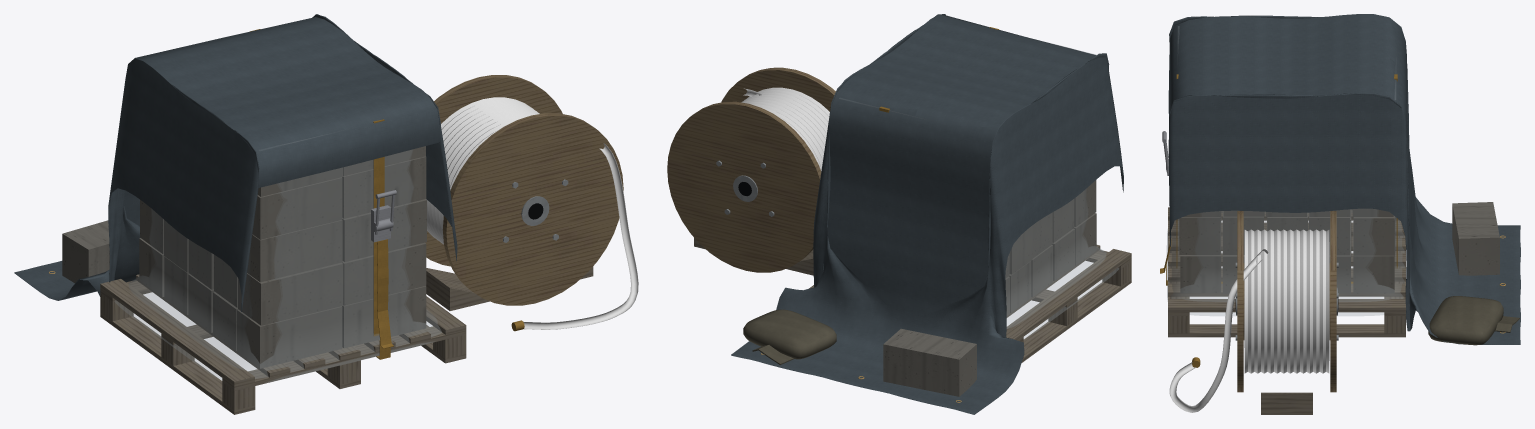
The model's file is pallet_stack.glb.
3 views of the same model, side by side, from view 1: azimuth 30°, elevation 25°; view 2: azimuth 150°, elevation 25°; view 3: azimuth 270°, elevation 25° (orthographic). The views are drawn at different scales.
Visible parts, largest first — view 1: tarp_fabric_tarp_faded_0, wrap_plastic_shrinkwrap_0, drum_wood_plywood_4, load_concrete_weathered_4, load_concrete_weathered_14, cable_rubber_0, load_concrete_weathered_24, load_concrete_weathered_34, pallet_wood_pallet_15, drum_wood_plywood_0, load_concrete_weathered_39, load_concrete_weathered_19 (+25 smaller); view 2: tarp_fabric_tarp_faded_0, drum_wood_plywood_0, wrap_plastic_shrinkwrap_0, weight_concrete_weathered_0, sandbag_fabric_canvas_0, cable_rubber_0, pallet_wood_pallet_15, drum_wood_plywood_4, pallet_wood_pallet_0, load_concrete_weathered_3, load_concrete_weathered_4, load_concrete_weathered_2 (+7 smaller); view 3: tarp_fabric_tarp_faded_0, cable_rubber_0, wrap_plastic_shrinkwrap_0, weight_concrete_weathered_0, sandbag_fabric_canvas_0, pallet_wood_pallet_21, load_concrete_weathered_9, cable_rubber_1, load_concrete_weathered_5, load_concrete_weathered_15, load_concrete_weathered_19, pallet_wood_pallet_2 (+15 smaller).
Part boxes in pixels (<box>): tarp_fabric_tarp_faded_0: <box>14,14,457,311</box>; wrap_plastic_shrinkwrap_0: <box>115,133,441,382</box>; drum_wood_plywood_4: <box>442,113,623,305</box>; load_concrete_weathered_4: <box>237,306,342,368</box>; load_concrete_weathered_14: <box>238,262,343,325</box>; cable_rubber_0: <box>425,97,539,244</box>; load_concrete_weathered_24: <box>247,220,342,282</box>; load_concrete_weathered_34: <box>252,177,342,239</box>; pallet_wood_pallet_15: <box>100,279,254,386</box>; drum_wood_plywood_0: <box>425,75,562,266</box>; load_concrete_weathered_39: <box>342,156,426,218</box>; load_concrete_weathered_19: <box>342,242,426,305</box>; tarp_fabric_tarp_faded_0: <box>731,14,1123,414</box>; drum_wood_plywood_0: <box>667,101,821,272</box>; wrap_plastic_shrinkwrap_0: <box>861,42,1118,338</box>; weight_concrete_weathered_0: <box>883,328,976,396</box>; sandbag_fabric_canvas_0: <box>743,309,836,359</box>; cable_rubber_0: <box>741,87,829,170</box>; pallet_wood_pallet_15: <box>1006,249,1131,340</box>; drum_wood_plywood_4: <box>721,67,835,111</box>; pallet_wood_pallet_0: <box>1021,279,1131,362</box>; load_concrete_weathered_3: <box>1052,228,1075,280</box>; load_concrete_weathered_4: <box>1074,213,1096,265</box>; load_concrete_weathered_2: <box>1031,245,1052,297</box>; tarp_fabric_tarp_faded_0: <box>1168,14,1520,344</box>; cable_rubber_0: <box>1244,229,1329,373</box>; wrap_plastic_shrinkwrap_0: <box>1167,209,1406,315</box>; weight_concrete_weathered_0: <box>1452,202,1499,275</box>; sandbag_fabric_canvas_0: <box>1428,296,1503,345</box>; pallet_wood_pallet_21: <box>1168,299,1405,312</box>; load_concrete_weathered_9: <box>1180,221,1221,293</box>; cable_rubber_1: <box>1169,249,1268,412</box>; load_concrete_weathered_5: <box>1353,221,1394,293</box>; load_concrete_weathered_15: <box>1353,215,1394,255</box>; load_concrete_weathered_19: <box>1179,217,1220,254</box>; pallet_wood_pallet_2: <box>1168,324,1405,337</box>.
Size of what is drawn, in the model's own units: 2.13 by 1.19 by 1.67.
Materials: 14 (12 with a texture image).
